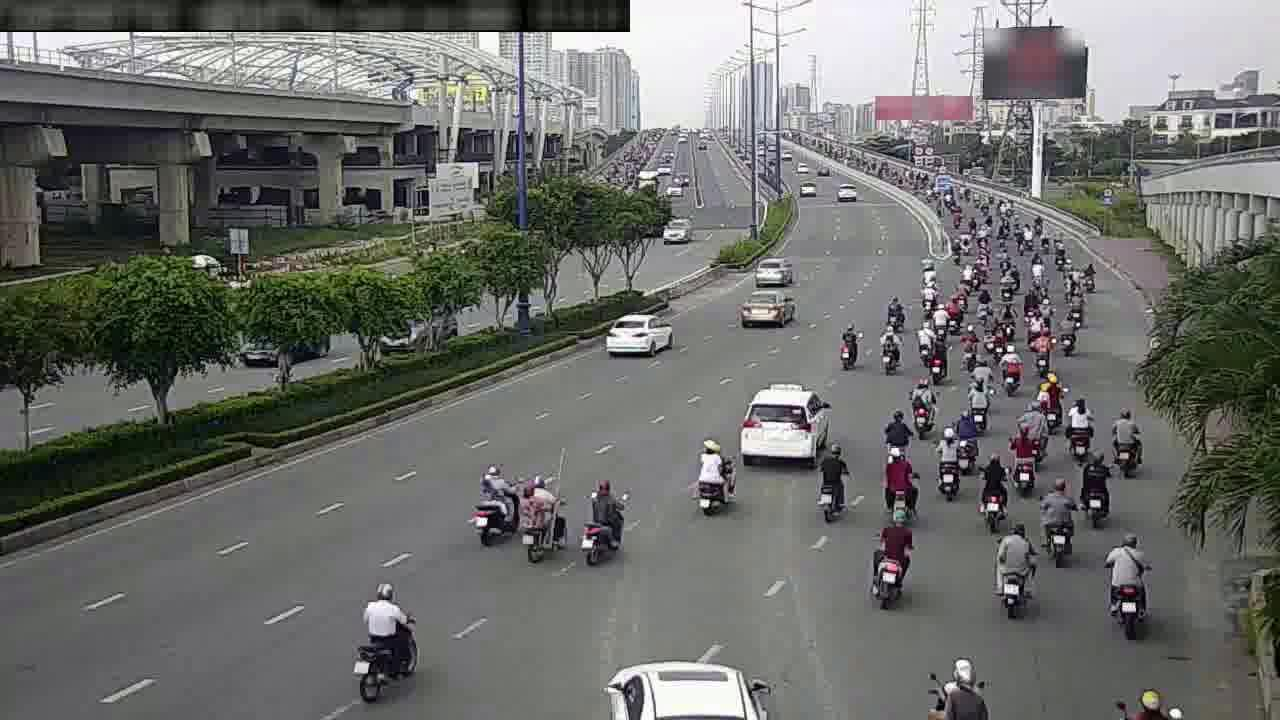container: (735, 375, 832, 468), (603, 305, 671, 359), (735, 279, 797, 331), (747, 246, 796, 288)
motorbike: (353, 579, 428, 694), (1098, 525, 1156, 629), (465, 456, 525, 550), (514, 476, 571, 568), (925, 650, 1000, 717), (988, 516, 1039, 614), (575, 479, 628, 568), (866, 511, 915, 600), (687, 433, 737, 519), (809, 442, 855, 522), (1036, 483, 1078, 562), (1073, 449, 1114, 521), (973, 449, 1013, 522), (1105, 407, 1146, 475), (878, 449, 917, 517), (929, 431, 965, 500), (1006, 432, 1040, 493), (877, 405, 913, 461), (904, 377, 939, 434), (1061, 403, 1094, 461), (959, 376, 994, 430), (995, 342, 1026, 395), (912, 315, 938, 371), (833, 321, 860, 373), (1021, 406, 1049, 456), (953, 323, 981, 370), (879, 321, 904, 371), (1041, 373, 1063, 425), (953, 412, 975, 463), (1031, 332, 1052, 377), (929, 331, 947, 380), (970, 350, 990, 394), (1068, 288, 1088, 331), (997, 303, 1019, 337), (1058, 315, 1076, 356), (981, 326, 1004, 358), (885, 294, 902, 334), (920, 276, 938, 313), (1026, 307, 1048, 337), (974, 286, 992, 321), (953, 280, 970, 317), (998, 270, 1015, 304), (933, 298, 947, 335)
